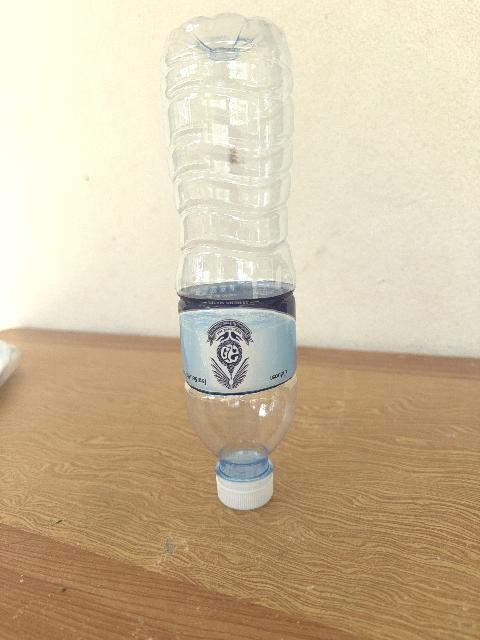bottle: (163, 14, 296, 509)
